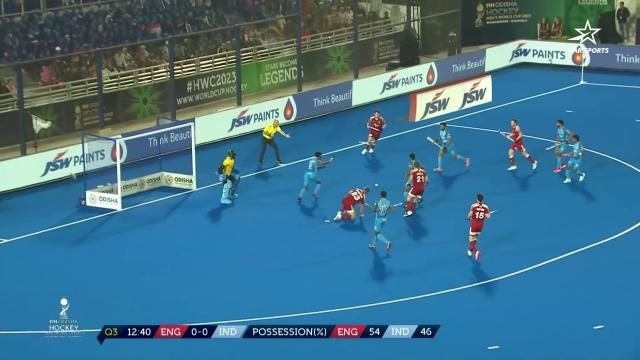ball: (374, 183, 380, 187)
